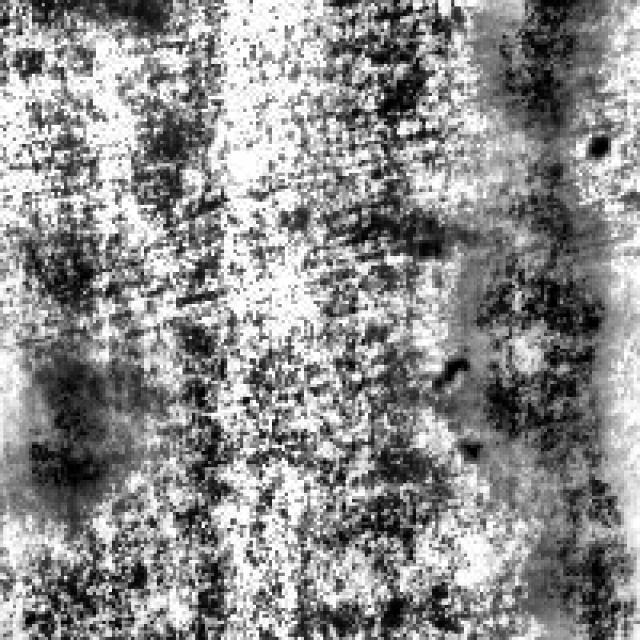Scratches: (454, 156, 608, 468), (6, 356, 134, 506), (464, 0, 605, 134), (515, 481, 634, 634)
